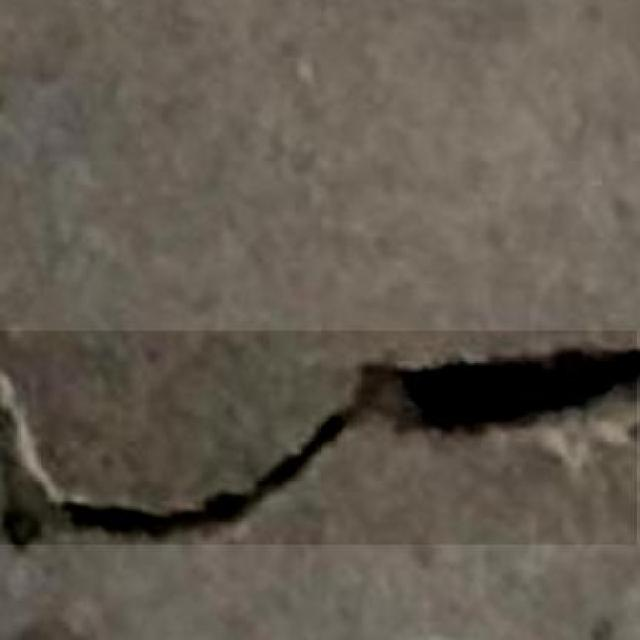Crack: (4, 334, 640, 551)
